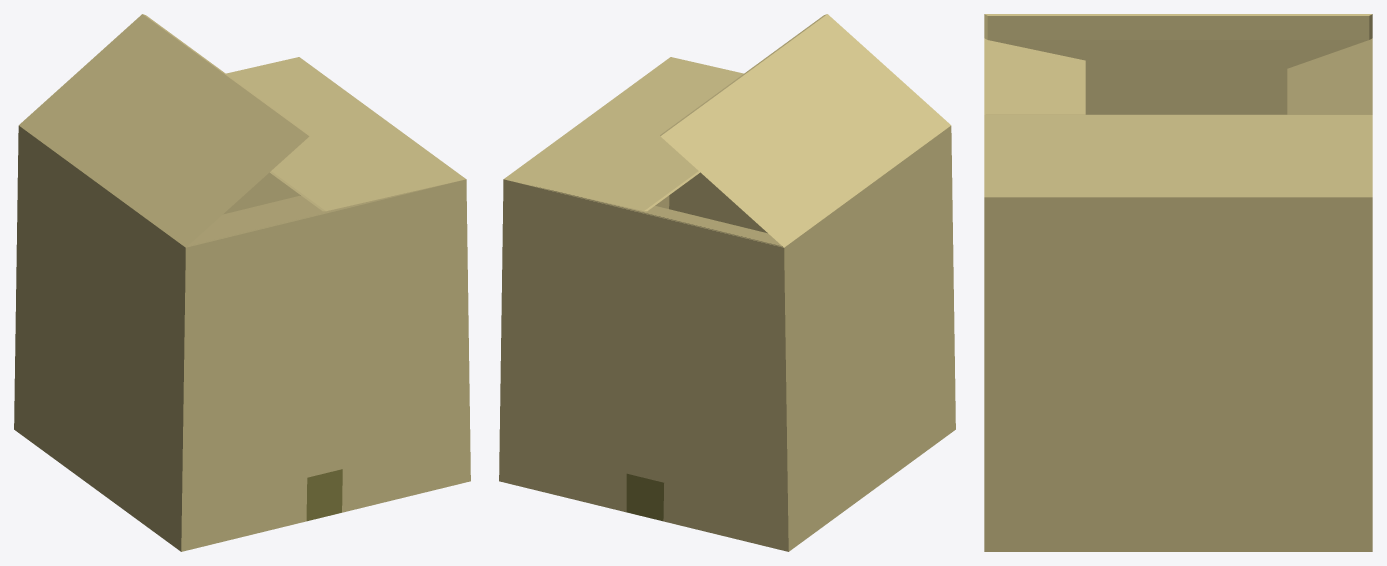
Rendered from BoxOpened.fbx.
3 views of the same model, side by side, from view 1: azimuth 30°, elevation 25°; view 2: azimuth 150°, elevation 25°; view 3: azimuth 270°, elevation 25° (orthographic). The views are drawn at different scales.
Visible parts, largest first — view 1: Cube; view 2: Cube; view 3: Cube.
Part boxes in pixels (x1=…): Cube: x1=14, y1=14, x2=470, y2=551; Cube: x1=499, y1=14, x2=955, y2=551; Cube: x1=984, y1=14, x2=1372, y2=551.
Bounding box in the file's own units: 723 × 917 × 723.
